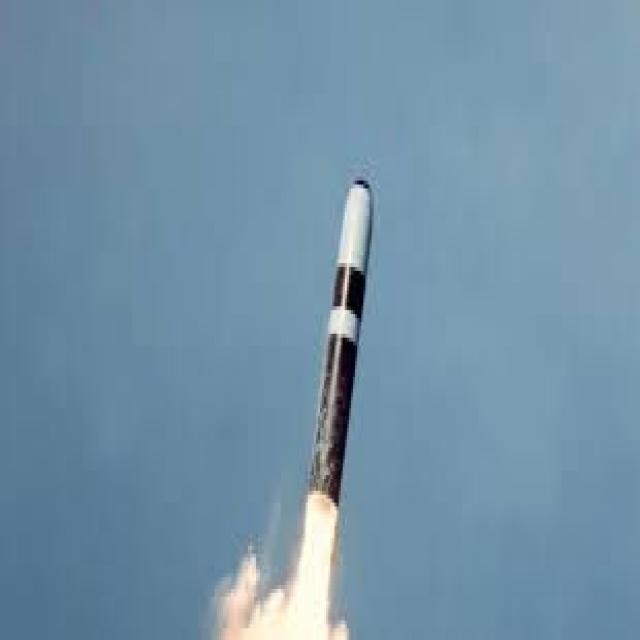Missile: (309, 141, 376, 518)
